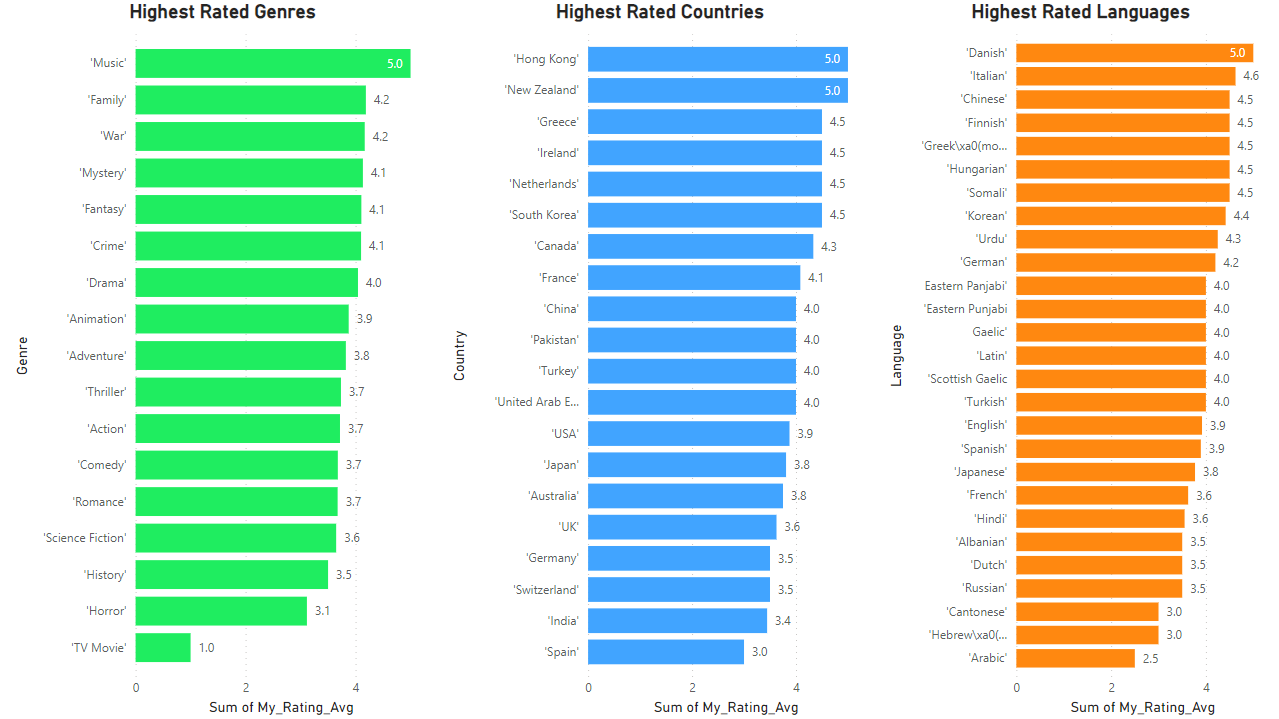

Layout of this report page (visuals, bound fields, positions):
{"tool":"powerbi","page":{"name":"Highest Rated Genres, Countries & Languages","canvas":[1280,720],"ordinal":4},"visuals":[{"type":"clusteredBarChart","title":"Highest Rated Genres","fields":{"Category":["Genre.Genre"],"Y":["Sum(Genre.My_Rating_Avg)"]},"box":[10,0,427.1,720],"z":0},{"type":"clusteredBarChart","title":"Highest Rated Countries","fields":{"Category":["Country.Country"],"Y":["Sum(Country.My_Rating_Avg)"]},"box":[447,0,427,720],"z":1000},{"type":"clusteredBarChart","title":"Highest Rated Languages","fields":{"Category":["Language.Language"],"Y":["Sum(Language.My_Rating_Avg)"]},"box":[884,0,396,720],"z":2000}]}

Visuals, with their boxes in screenshot pixels (x1, y1, x2, y2), scaled from the page's 1280x720 canvas onto the 1279x719 screenshot:
"Highest Rated Genres" clusteredBarChart: 10, 0, 437, 718
"Highest Rated Countries" clusteredBarChart: 447, 0, 873, 718
"Highest Rated Languages" clusteredBarChart: 883, 0, 1278, 718
